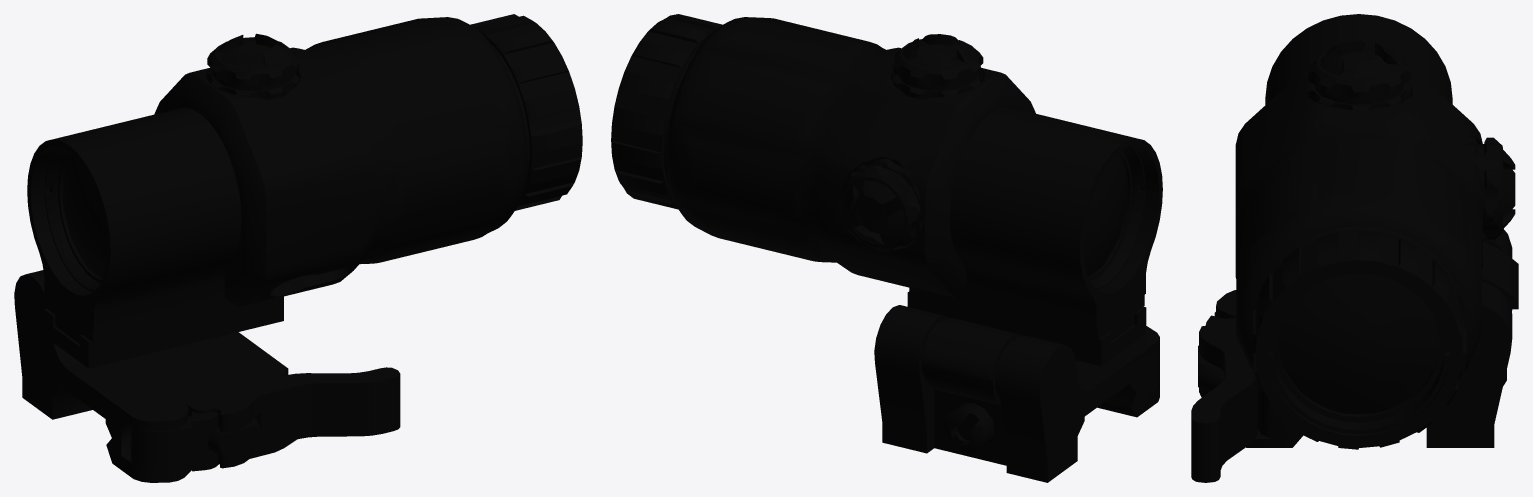
The picture shows the model from 3 angles, left to right: view 1: azimuth 30°, elevation 25°; view 2: azimuth 150°, elevation 25°; view 3: azimuth 270°, elevation 25°; orthographic projection. The views are drawn at different scales.
Parts seen in each view (by area): view 1: 2x Scope; view 2: 2x Scope; view 3: 2x Scope.
Part boxes in pixels (x1,y1,x2,y2): 2x Scope: (14,14,582,482); 2x Scope: (611,14,1162,482); 2x Scope: (1191,14,1518,482).
Bounding box in the file's own units: 93.55 × 67.86 × 50.46.
1 material, 1 textured.
